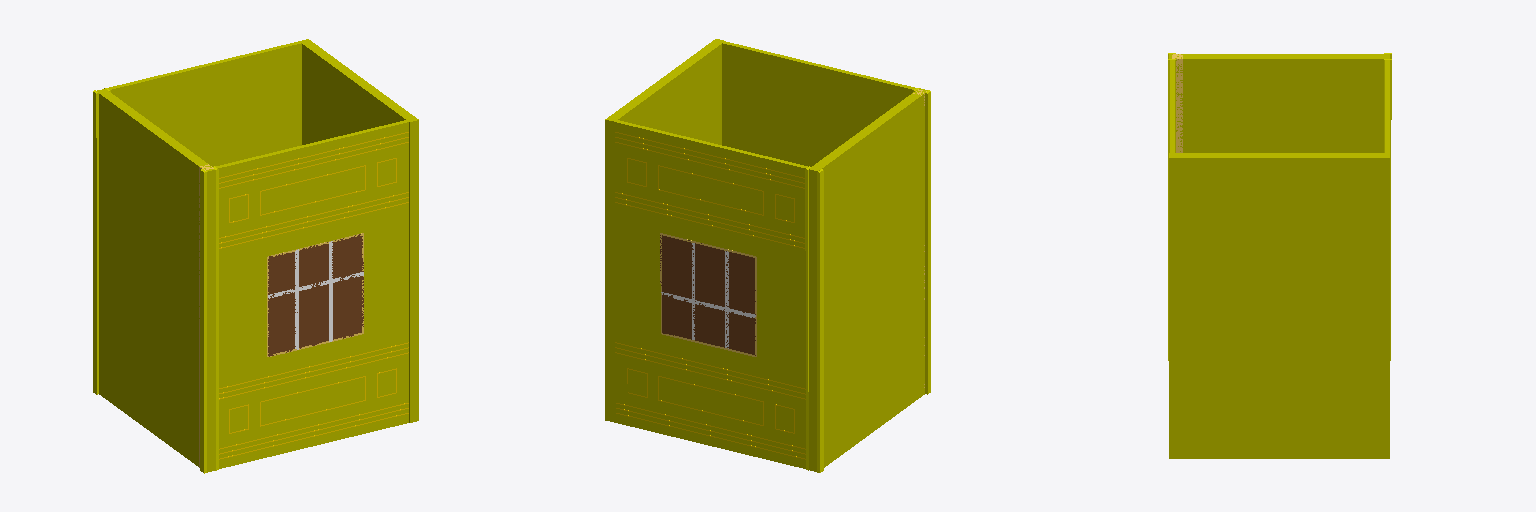
Rendered from phongdt.obj.
3 renders of one model, left to right at view 1: azimuth 30°, elevation 25°; view 2: azimuth 150°, elevation 25°; view 3: azimuth 270°, elevation 25°, orthographic.
Parts seen in each view (by area): view 1: obj4, obj50, obj55, obj51, obj12, obj2, obj53, obj3; view 2: obj55, obj50, obj4, obj51, obj63, obj53, obj2, obj54; view 3: obj51, obj50, obj49.
Boxes of the visible parts, x1=… form: obj4: x1=215, y1=120, x2=408, y2=468; obj50: x1=97, y1=89, x2=215, y2=472; obj55: x1=108, y1=41, x2=301, y2=166; obj51: x1=299, y1=39, x2=418, y2=422; obj12: x1=268, y1=234, x2=363, y2=356; obj2: x1=200, y1=169, x2=206, y2=473; obj53: x1=93, y1=90, x2=98, y2=394; obj3: x1=213, y1=166, x2=218, y2=470; obj55: x1=615, y1=120, x2=807, y2=468; obj50: x1=809, y1=88, x2=927, y2=471; obj4: x1=722, y1=41, x2=915, y2=166; obj51: x1=605, y1=39, x2=724, y2=422; obj63: x1=660, y1=235, x2=755, y2=355; obj53: x1=817, y1=169, x2=823, y2=472; obj2: x1=925, y1=90, x2=930, y2=394; obj54: x1=805, y1=166, x2=810, y2=470; obj51: x1=1169, y1=153, x2=1389, y2=458; obj50: x1=1169, y1=54, x2=1389, y2=152; obj49: x1=1172, y1=54, x2=1182, y2=152.
Size of the model in its own units: 224 by 300 by 202.